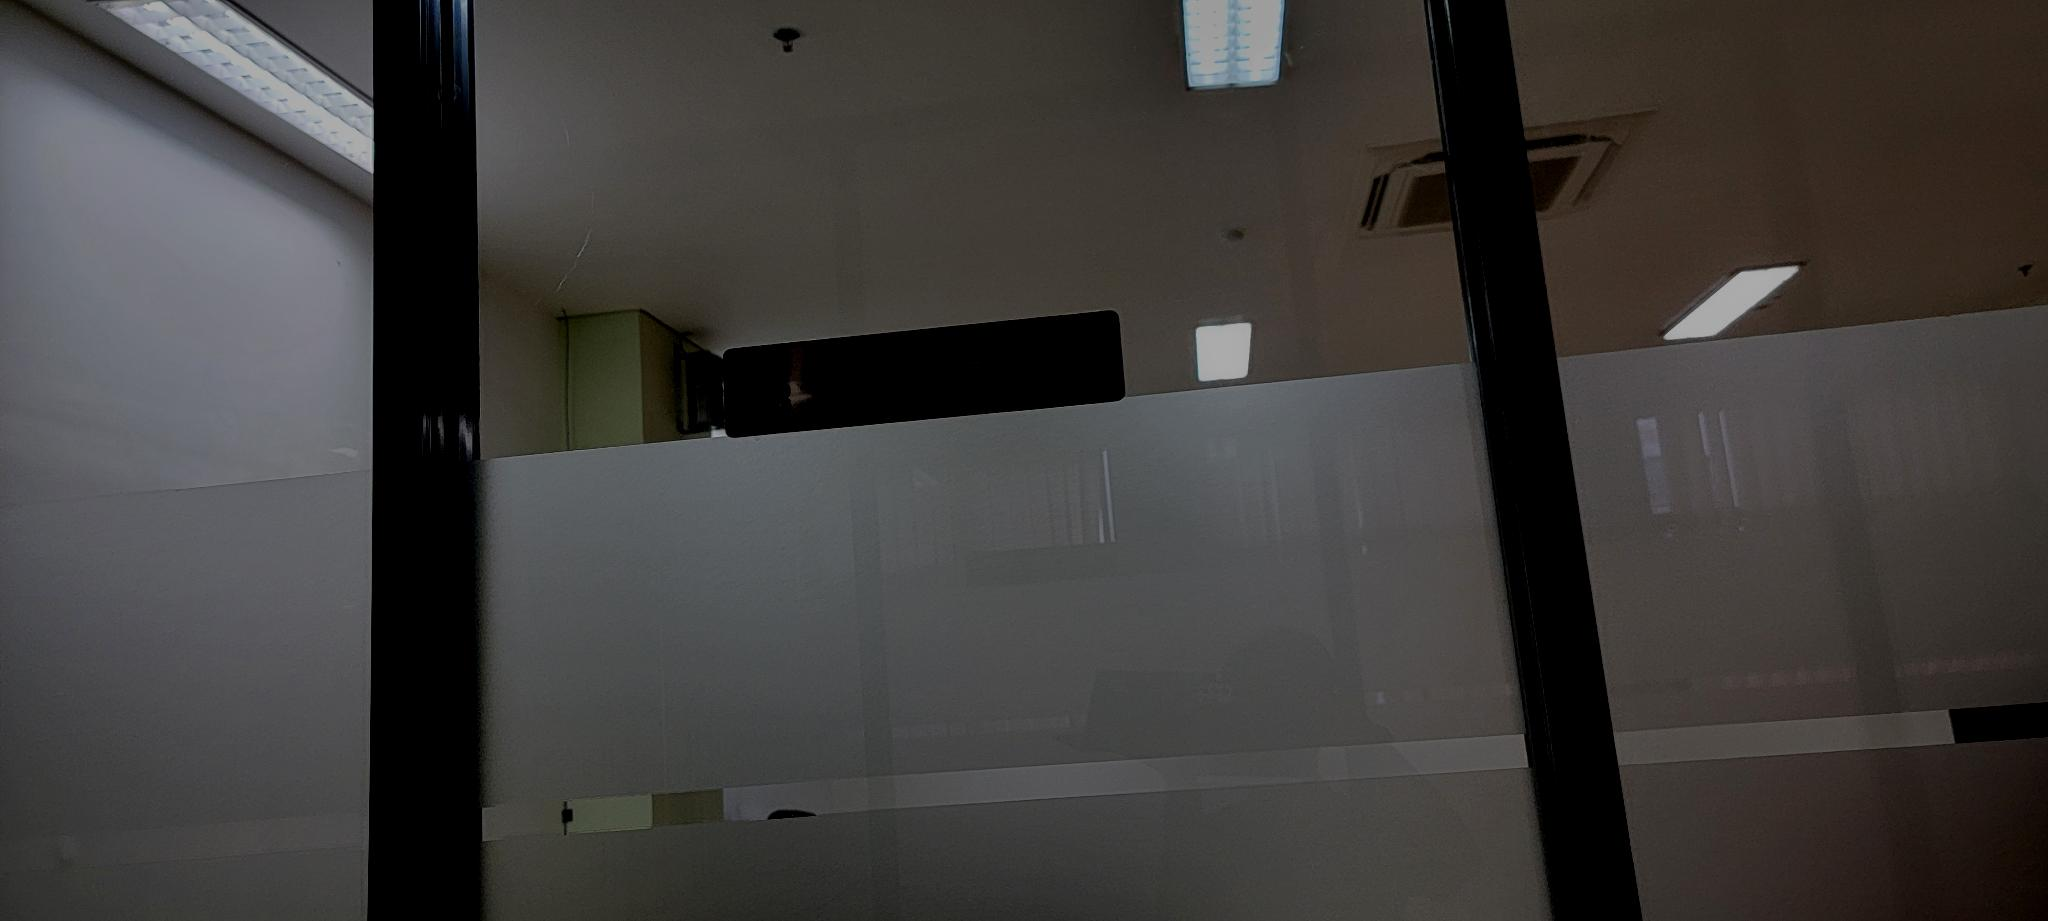plate: (721, 303, 1126, 442)
